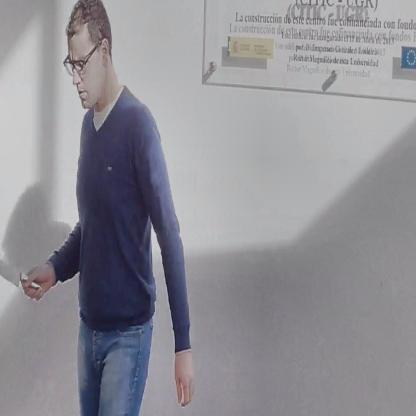knife: (0, 247, 44, 304)
